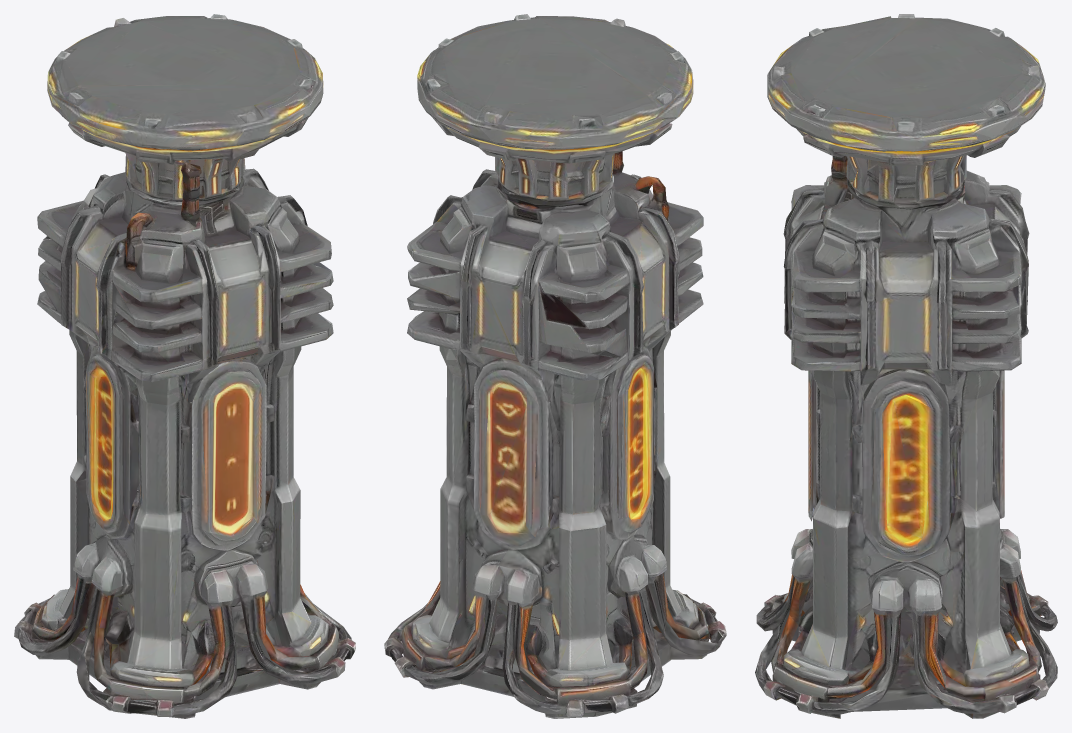
The model's file is generator.glb.
The picture shows the model from 3 angles, left to right: view 1: azimuth 30°, elevation 25°; view 2: azimuth 150°, elevation 25°; view 3: azimuth 270°, elevation 25°; orthographic projection.
Parts seen in each view (by area): view 1: Mesh_0; view 2: Mesh_0; view 3: Mesh_0.
Part boxes in pixels (bbox=[...]): Mesh_0: bbox=[14, 14, 355, 718]; Mesh_0: bbox=[384, 14, 726, 718]; Mesh_0: bbox=[755, 14, 1057, 718].
Bounding box in the file's own units: 0.8736 × 1.9 × 0.8755.
Materials: 1 (1 with a texture image).
